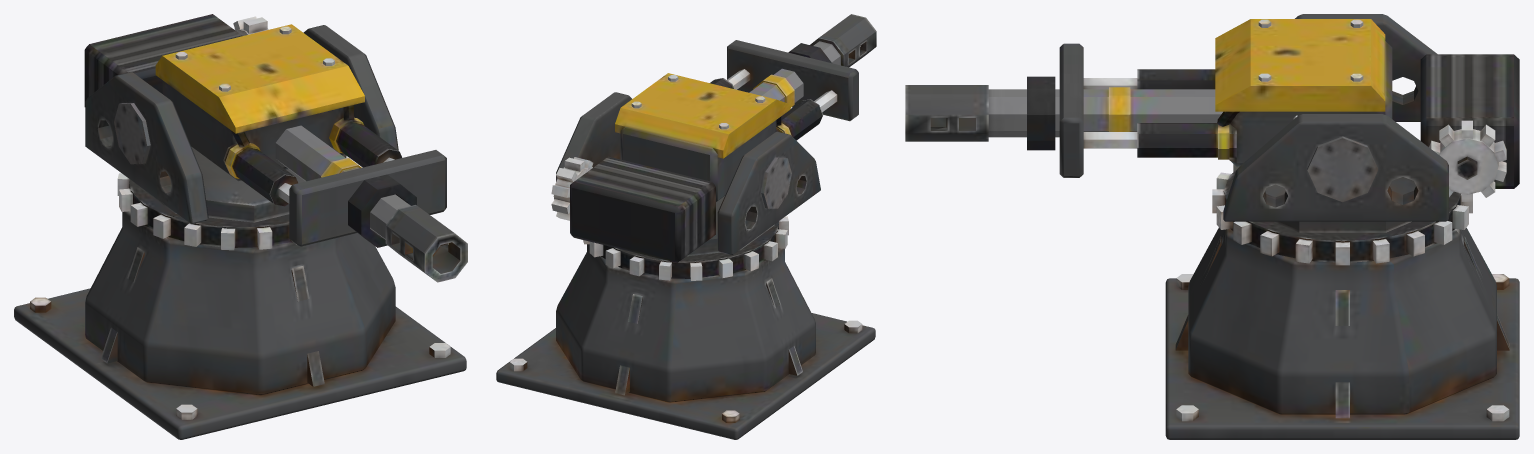
Rendered from R4W_Basic_LOD1.glb.
The picture shows the model from 3 angles, left to right: view 1: azimuth 30°, elevation 25°; view 2: azimuth 150°, elevation 25°; view 3: azimuth 270°, elevation 25°; orthographic projection. The views are drawn at different scales.
Visible parts, largest first — view 1: R4W_Basic_LOD1; view 2: R4W_Basic_LOD1; view 3: R4W_Basic_LOD1.
Boxes of the visible parts, x1=… form: R4W_Basic_LOD1: x1=14, y1=14, x2=467, y2=439; R4W_Basic_LOD1: x1=496, y1=14, x2=876, y2=439; R4W_Basic_LOD1: x1=905, y1=14, x2=1519, y2=439.
Size of the model in its own units: 0.5 by 0.4955 by 0.868.
4 materials, 4 textured.
